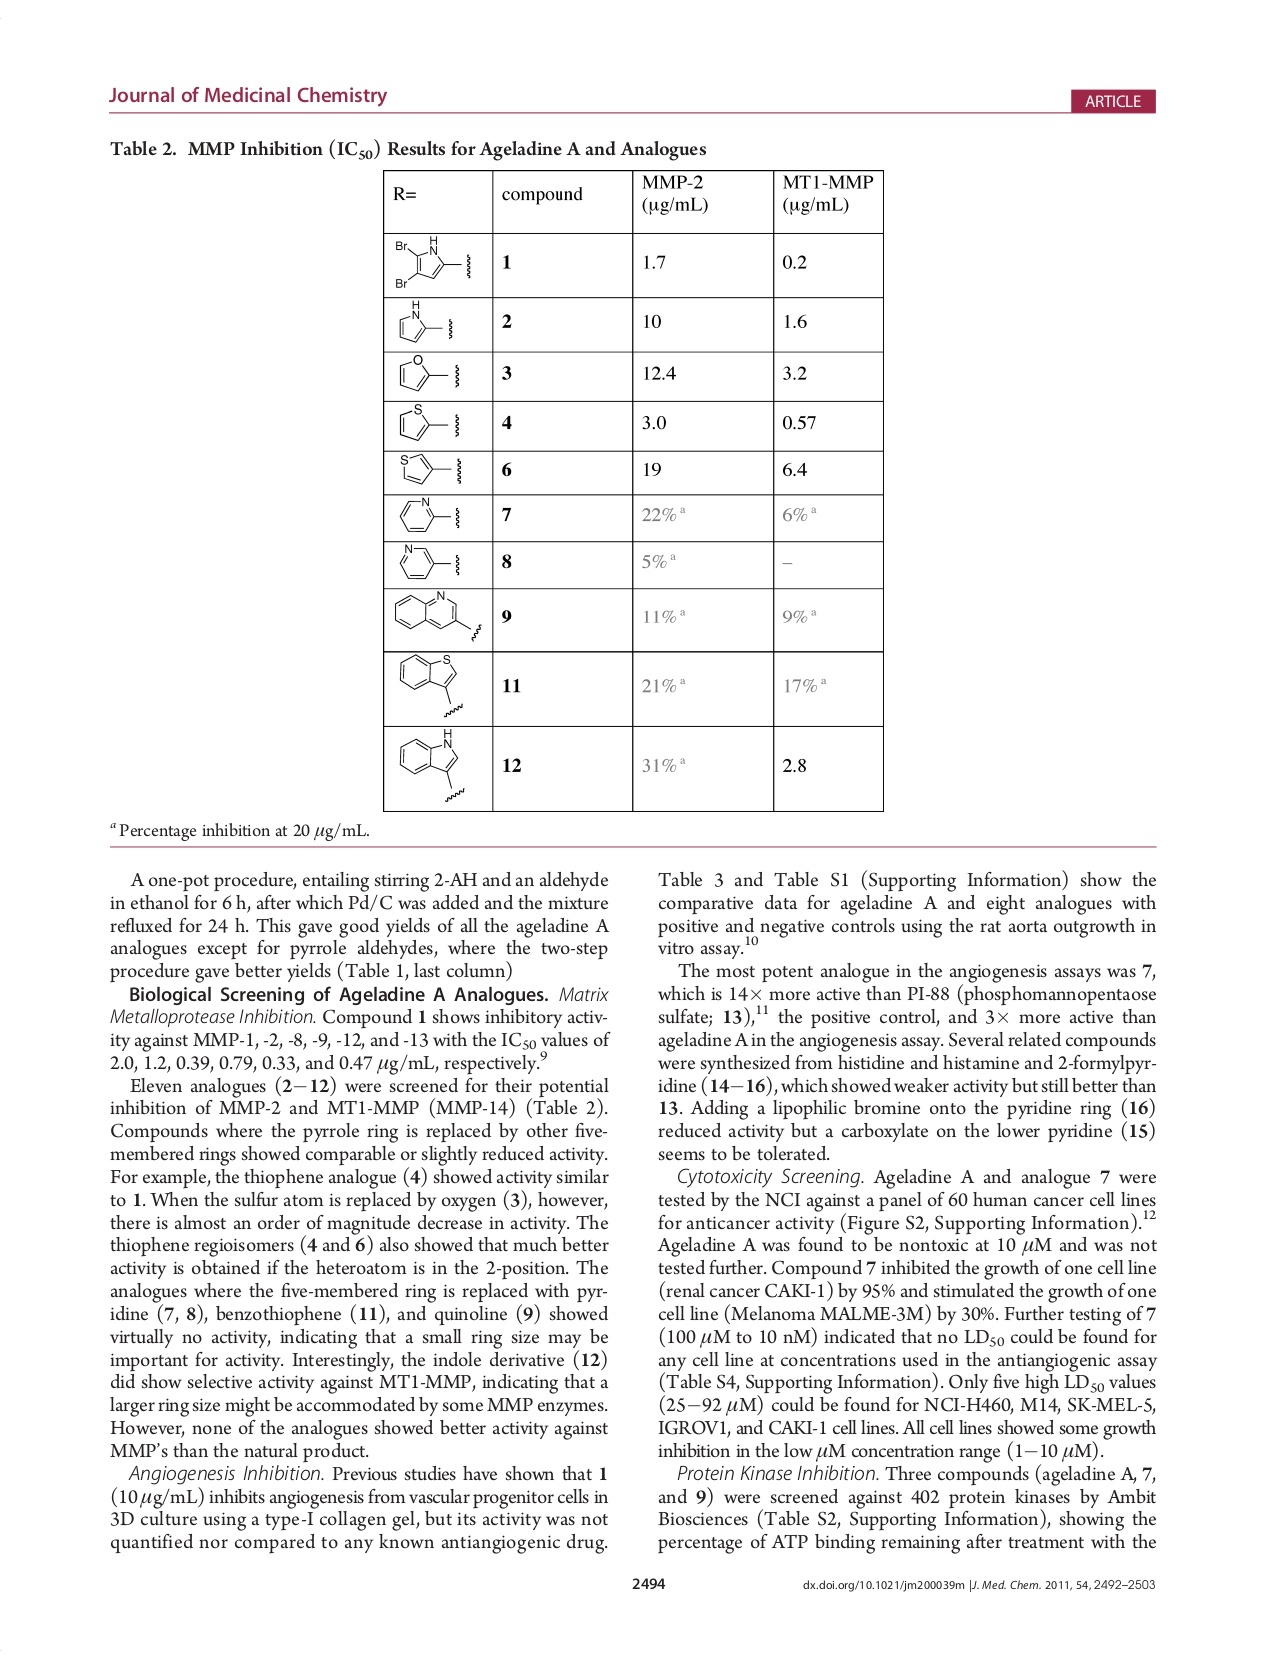exist_molecular: (396, 729, 469, 805), (391, 590, 484, 641), (398, 654, 468, 721), (392, 235, 473, 293), (395, 403, 463, 446), (396, 352, 461, 395), (396, 299, 456, 344), (398, 496, 464, 535), (398, 544, 464, 582), (398, 451, 465, 488)
